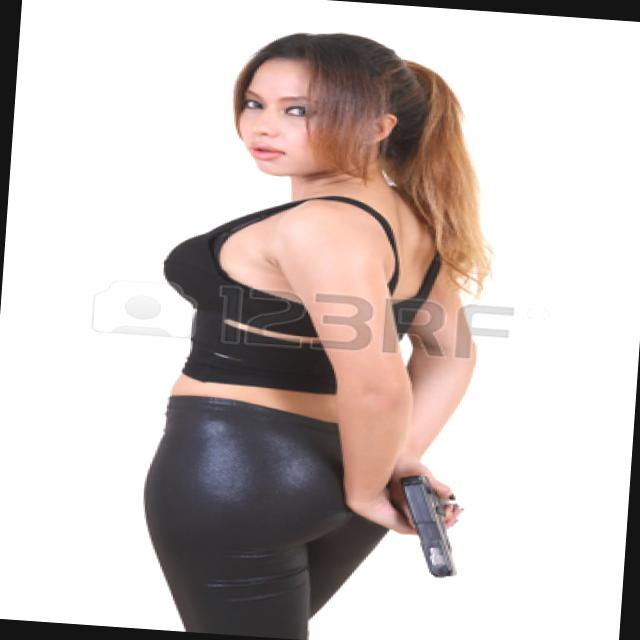handgun: (388, 470, 461, 579)
